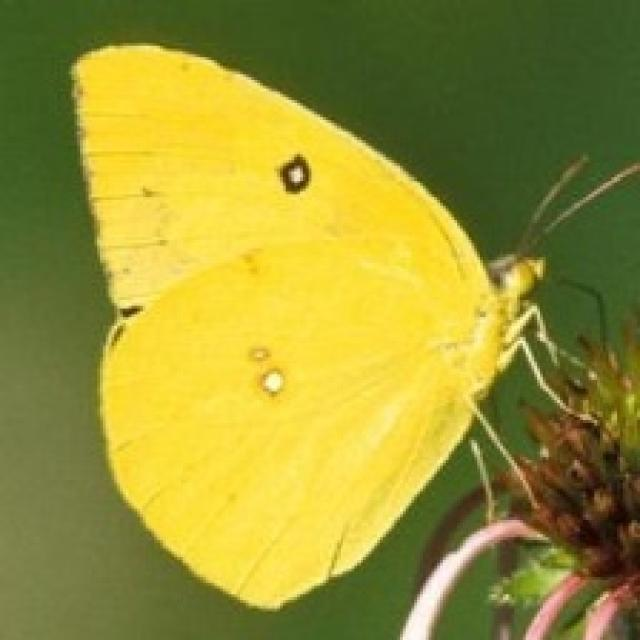butterfly: (66, 37, 637, 612)
